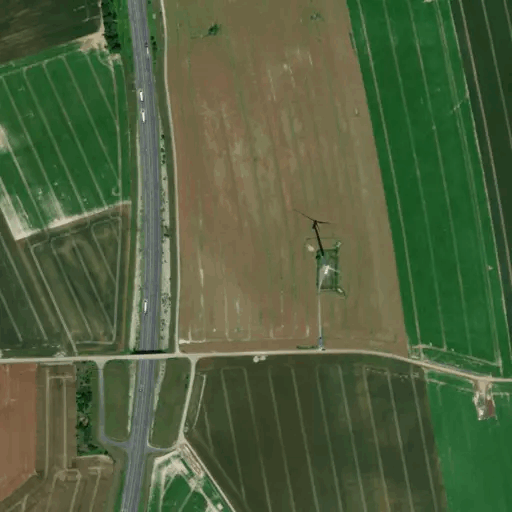wt: (296, 209, 345, 287)
